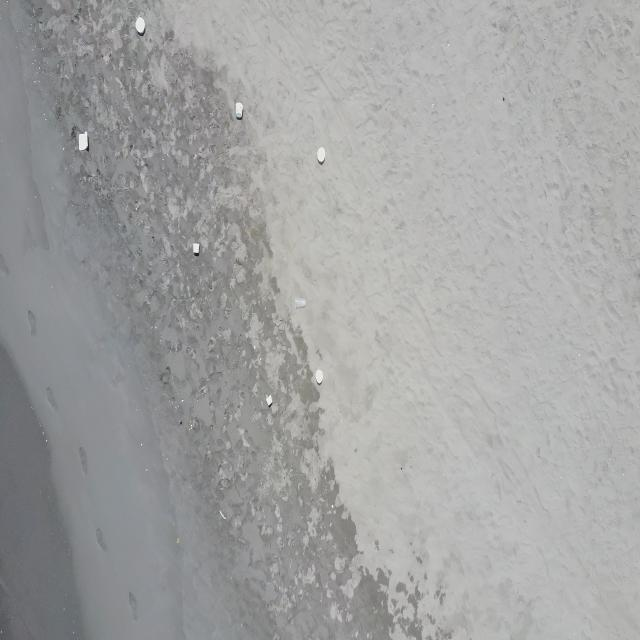take-away-containers: (78, 130, 89, 152), (135, 16, 147, 36), (235, 102, 244, 120), (317, 147, 326, 163), (315, 368, 324, 384), (192, 242, 200, 256), (266, 394, 272, 406)
takeaway-cup: (295, 296, 307, 309)
